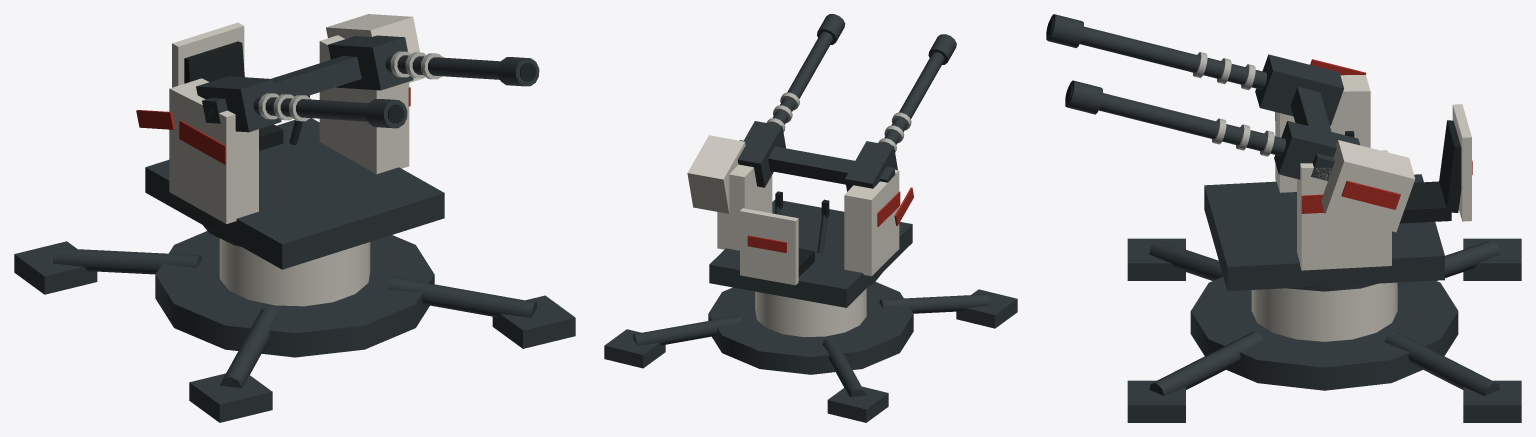
3 renders of one model, left to right at view 1: azimuth 30°, elevation 25°; view 2: azimuth 150°, elevation 25°; view 3: azimuth 270°, elevation 25°, orthographic. The views are drawn at different scales.
Parts seen in each view (by area): view 1: aa-gun-manned-fleet-machine, turret-fleet-machine, turret-fleet-armor, aa-gun-manned-fleet-armor, aa-barrel-right-fleet-machine, aa-barrel-left-fleet-machine, elevation-fleet-machine, turret-fleet-rubber, breakaway-2-painted, breakaway-0-painted, turret-fleet-red, aa-barrel-right-fleet-edge (+2 smaller); view 2: aa-gun-manned-fleet-machine, turret-fleet-machine, turret-fleet-armor, aa-gun-manned-fleet-armor, breakaway-0-painted, aa-barrel-right-fleet-machine, aa-barrel-left-fleet-machine, breakaway-2-painted, elevation-fleet-machine, turret-fleet-red, turret-fleet-rubber, aa-barrel-left-fleet-edge (+1 smaller); view 3: aa-gun-manned-fleet-machine, turret-fleet-machine, turret-fleet-armor, aa-barrel-left-fleet-machine, aa-gun-manned-fleet-armor, aa-barrel-right-fleet-machine, breakaway-2-painted, turret-fleet-rubber, elevation-fleet-machine, breakaway-0-painted, elevation-fleet-red, aa-barrel-right-fleet-edge (+2 smaller).
Part boxes in pixels (x1,y1,x2,y2): aa-gun-manned-fleet-machine: [14, 225, 575, 422]; turret-fleet-machine: [145, 118, 444, 269]; turret-fleet-armor: [169, 35, 409, 223]; aa-gun-manned-fleet-armor: [219, 238, 370, 306]; aa-barrel-right-fleet-machine: [328, 35, 539, 90]; aa-barrel-left-fleet-machine: [196, 76, 407, 132]; elevation-fleet-machine: [202, 56, 361, 123]; turret-fleet-rubber: [184, 41, 309, 150]; breakaway-2-painted: [326, 14, 424, 82]; breakaway-0-painted: [172, 22, 244, 87]; turret-fleet-red: [179, 87, 410, 164]; aa-barrel-right-fleet-edge: [390, 51, 443, 79]; aa-gun-manned-fleet-machine: [604, 273, 1017, 422]; turret-fleet-machine: [709, 199, 912, 307]; turret-fleet-armor: [717, 164, 899, 276]; aa-gun-manned-fleet-armor: [755, 288, 866, 336]; breakaway-0-painted: [740, 208, 798, 285]; aa-barrel-right-fleet-machine: [737, 14, 845, 187]; aa-barrel-left-fleet-machine: [845, 34, 956, 191]; breakaway-2-painted: [687, 135, 745, 213]; elevation-fleet-machine: [739, 140, 895, 184]; turret-fleet-red: [747, 191, 900, 252]; turret-fleet-rubber: [775, 191, 829, 276]; aa-barrel-left-fleet-edge: [878, 112, 911, 152]; aa-gun-manned-fleet-machine: [1127, 238, 1521, 422]; turret-fleet-machine: [1204, 174, 1444, 291]; turret-fleet-armor: [1275, 75, 1391, 270]; aa-barrel-left-fleet-machine: [1046, 14, 1343, 125]; aa-gun-manned-fleet-armor: [1251, 282, 1397, 341]; aa-barrel-right-fleet-machine: [1065, 80, 1359, 179]; breakaway-2-painted: [1321, 140, 1415, 232]; turret-fleet-rubber: [1345, 120, 1461, 223]; elevation-fleet-machine: [1290, 86, 1334, 180]; breakaway-0-painted: [1452, 104, 1471, 221]; elevation-fleet-red: [1310, 59, 1400, 209]; aa-barrel-right-fleet-edge: [1212, 118, 1274, 156].
Bounding box in the file's own units: 16.77 × 14.29 × 20.23.
